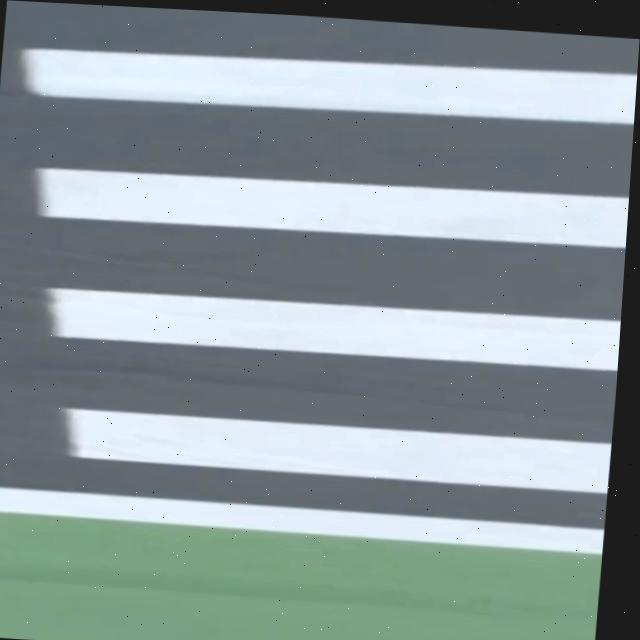right: (0, 486, 604, 553)
